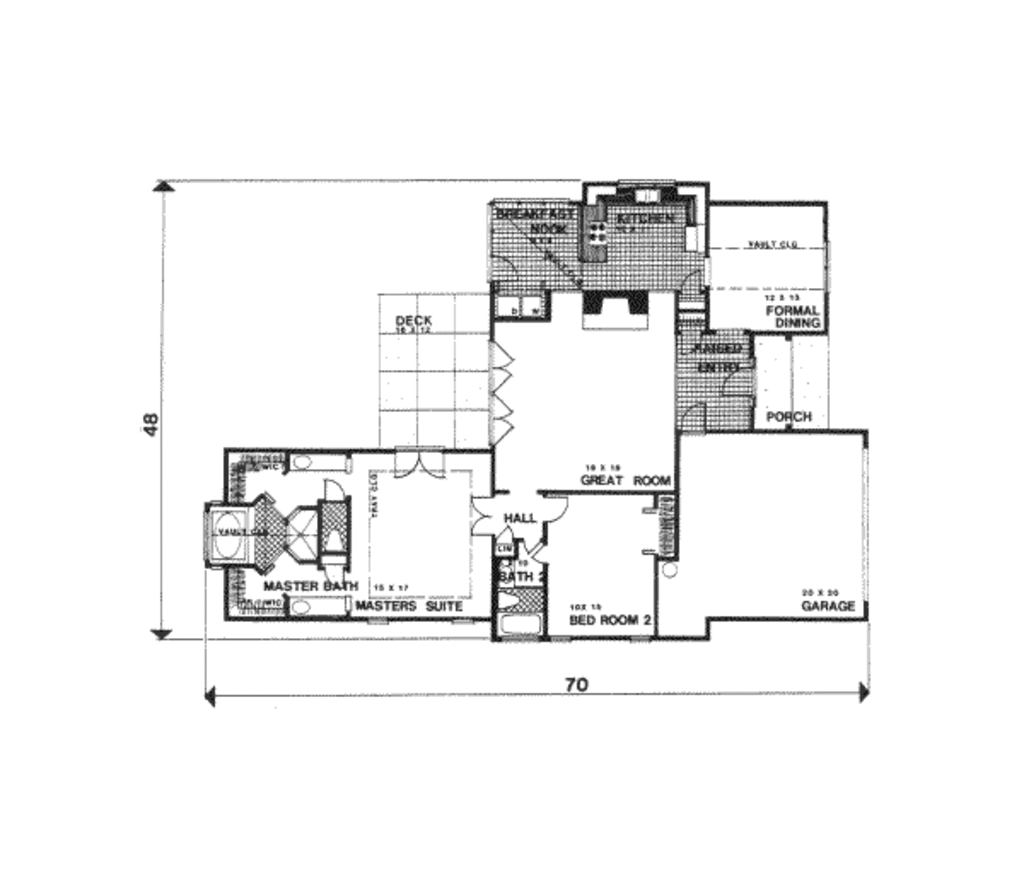door: (483, 392, 519, 449), (485, 333, 517, 392), (720, 360, 762, 402), (393, 447, 443, 482), (531, 488, 575, 524), (672, 265, 711, 299), (487, 250, 527, 283), (307, 562, 354, 588), (313, 473, 352, 500), (472, 492, 494, 538), (677, 401, 708, 433), (532, 540, 555, 567), (520, 538, 545, 558)
large_sink: (497, 589, 517, 609)
small_sink: (283, 594, 332, 622), (290, 448, 324, 472)
tub: (500, 614, 553, 642)
twin_sink: (627, 182, 670, 202)
window: (369, 611, 397, 634), (627, 624, 655, 645)
